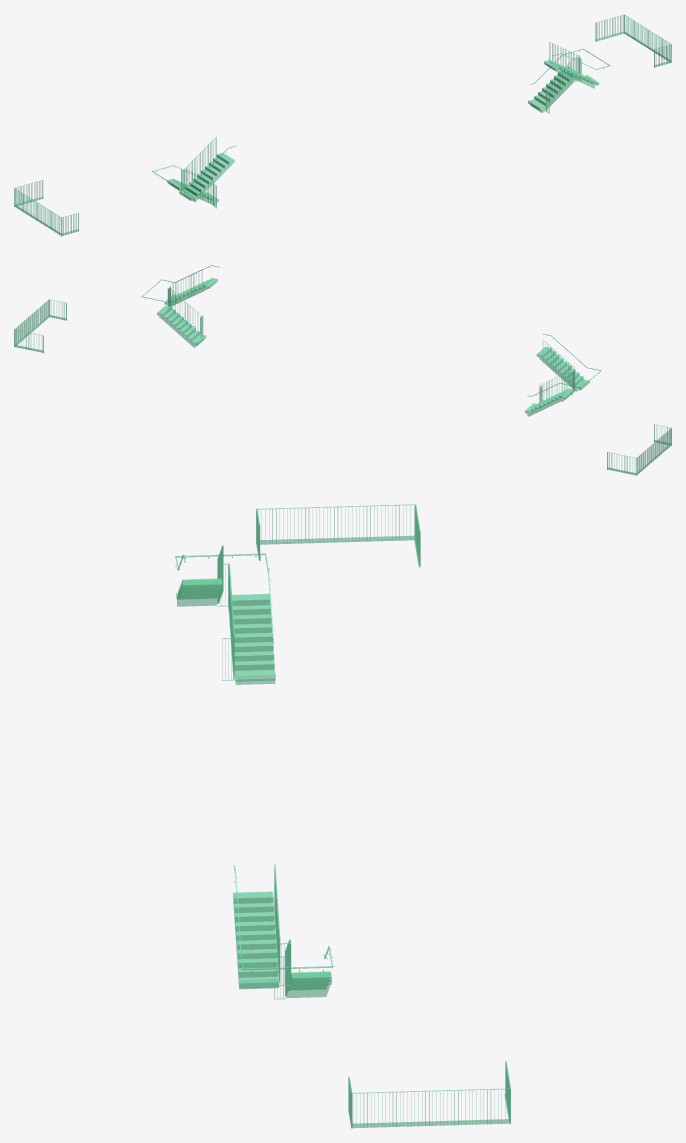
File: GroundFloor_circulation.glb
3 views of the same model, one above another, from view 1: azimuth 30°, elevation 25°; view 2: azimuth 150°, elevation 25°; view 3: azimuth 270°, elevation 25° (orthographic). The views are drawn at different scales.
Visible parts, largest first — view 1: world; view 2: world; view 3: world.
Boxes of the visible parts, x1=… form: world: x1=14, y1=14, x2=671, y2=236; world: x1=14, y1=265, x2=671, y2=475; world: x1=175, y1=504, x2=510, y2=1128.
Size of the model in its own units: 42.18 by 4.55 by 10.17.
